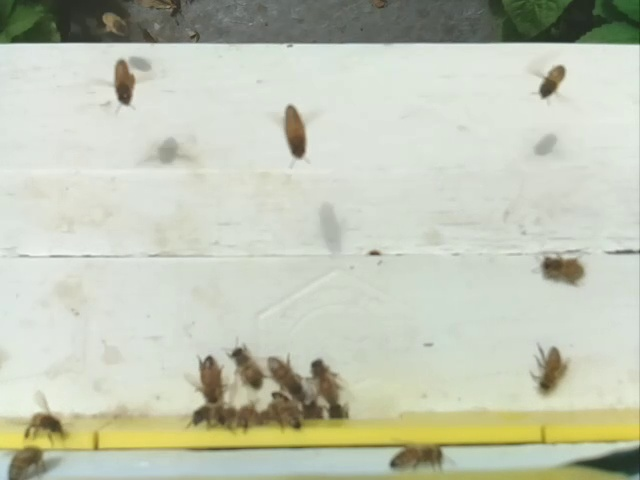bee: (530, 238, 603, 293), (270, 100, 327, 169), (527, 332, 575, 400), (522, 53, 582, 107), (106, 55, 156, 117), (18, 391, 72, 447), (218, 336, 270, 393), (261, 349, 314, 402), (378, 436, 455, 472), (304, 353, 350, 406), (191, 347, 232, 406), (3, 428, 50, 478), (255, 397, 306, 434), (182, 399, 234, 434), (234, 396, 262, 429), (95, 9, 131, 34)
